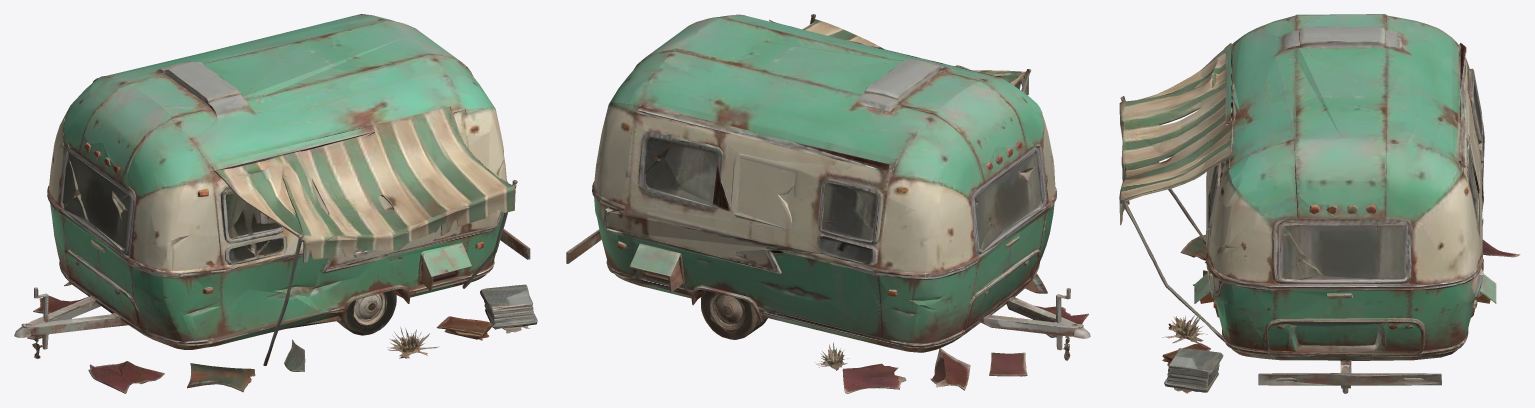
Rendered from caravan.glb.
The picture shows the model from 3 angles, left to right: view 1: azimuth 30°, elevation 25°; view 2: azimuth 150°, elevation 25°; view 3: azimuth 270°, elevation 25°; orthographic projection. The views are drawn at different scales.
Bounding box in the file's own units: 1.9 × 0.946 × 1.42.
Materials: 1 (1 with a texture image).
